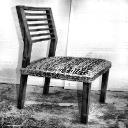chair_success: (1, 0, 116, 127)
